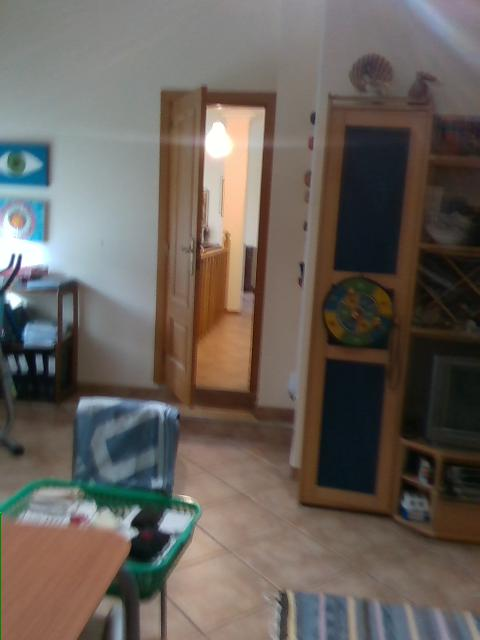semi_door: (151, 80, 277, 419)
